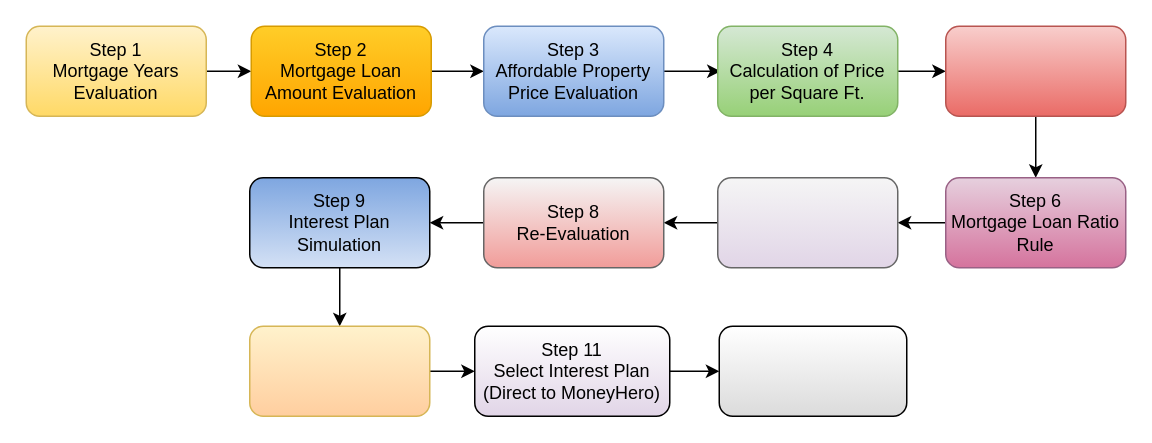
This 1152x443 diagram has some shape labels left out. Here are the shapes that lost their labels. From the top down, the box of each, then its label:
(944, 25, 1126, 116): Step 5 Mortgage Loan Ratio Rule
(716, 176, 898, 268): Step 7 Select Your Property (Direct to Midland)
(248, 325, 430, 416): Step 10 Other Expense Evaluation
(718, 325, 907, 416): FINISH
